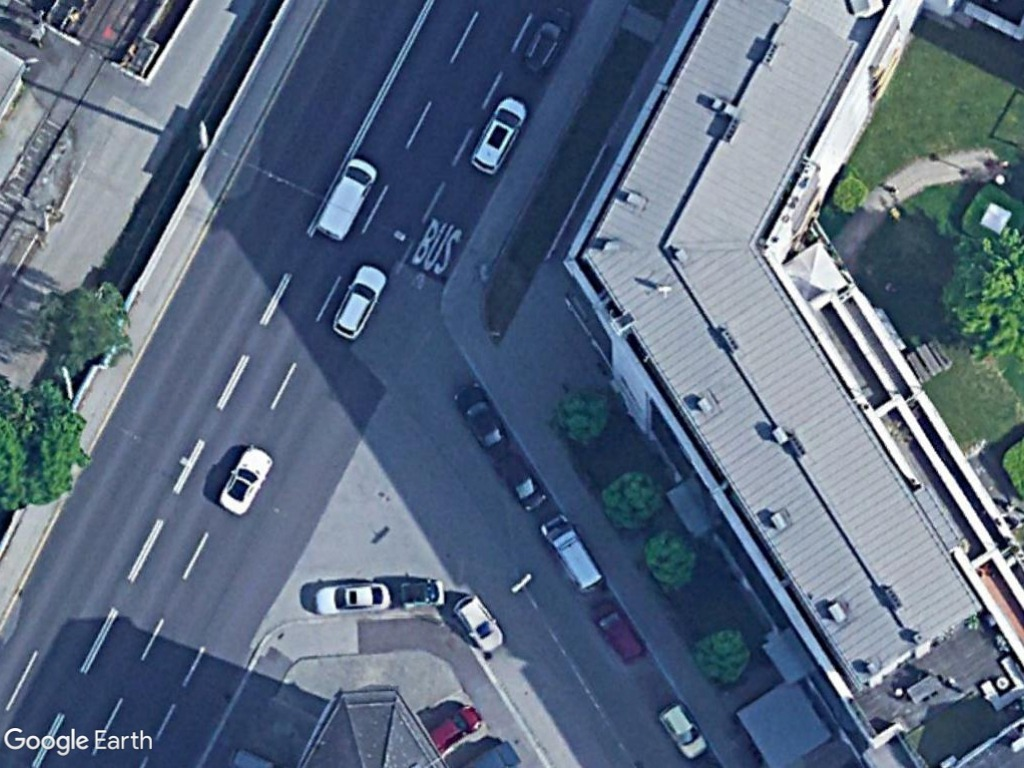car: (464, 93, 530, 182), (328, 260, 389, 340), (448, 376, 509, 455), (216, 441, 275, 516), (589, 597, 647, 669), (520, 3, 577, 75), (652, 700, 709, 766), (447, 587, 504, 652), (495, 449, 549, 515), (311, 579, 393, 620), (424, 703, 489, 752)
van: (309, 153, 380, 244), (538, 511, 604, 593)
